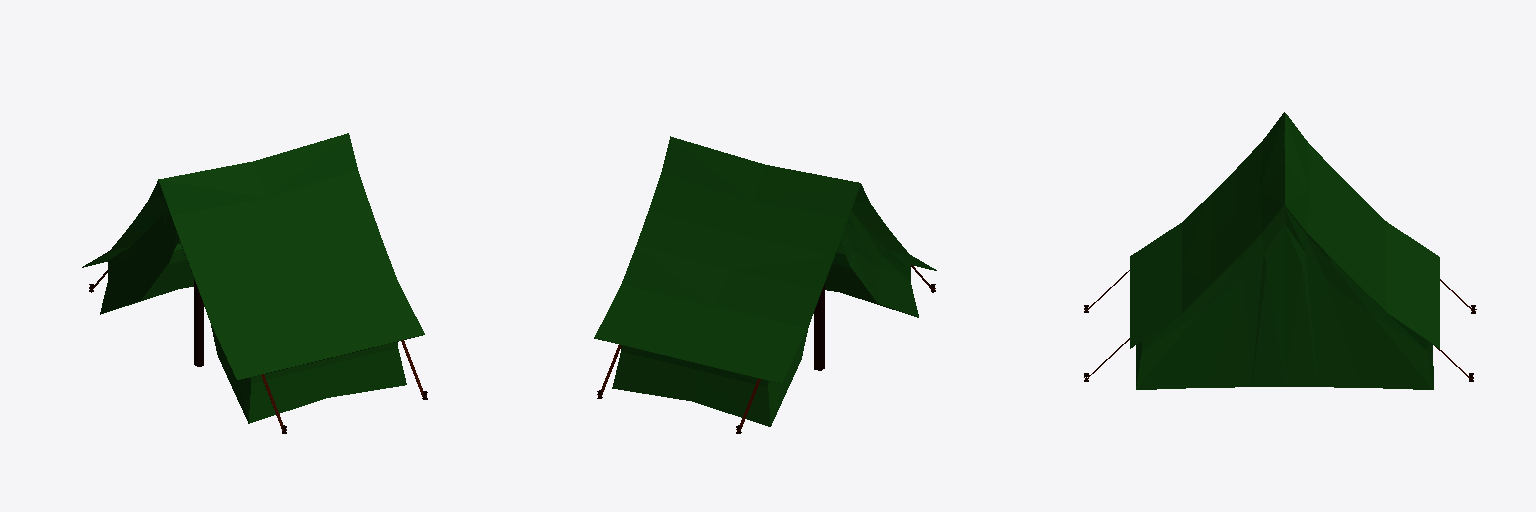
File: TentRevised.obj
3 renders of one model, left to right at view 1: azimuth 30°, elevation 25°; view 2: azimuth 150°, elevation 25°; view 3: azimuth 270°, elevation 25°, orthographic.
Parts seen in each view (by area): view 1: Plane, Plane.001, Cube.005; view 2: Plane, Plane.001, Cube.005; view 3: Plane.001, Plane.
Boxes of the visible parts, <box> form: Plane: <box>82,133,424,380</box>; Plane.001: <box>100,208,406,423</box>; Cube.005: <box>194,280,203,366</box>; Plane: <box>594,136,936,383</box>; Plane.001: <box>612,211,918,426</box>; Cube.005: <box>814,284,824,370</box>; Plane.001: <box>1136,206,1433,389</box>; Plane: <box>1130,112,1439,348</box>.
Size of the model in its own units: 2.47 by 2.42 by 4.41.